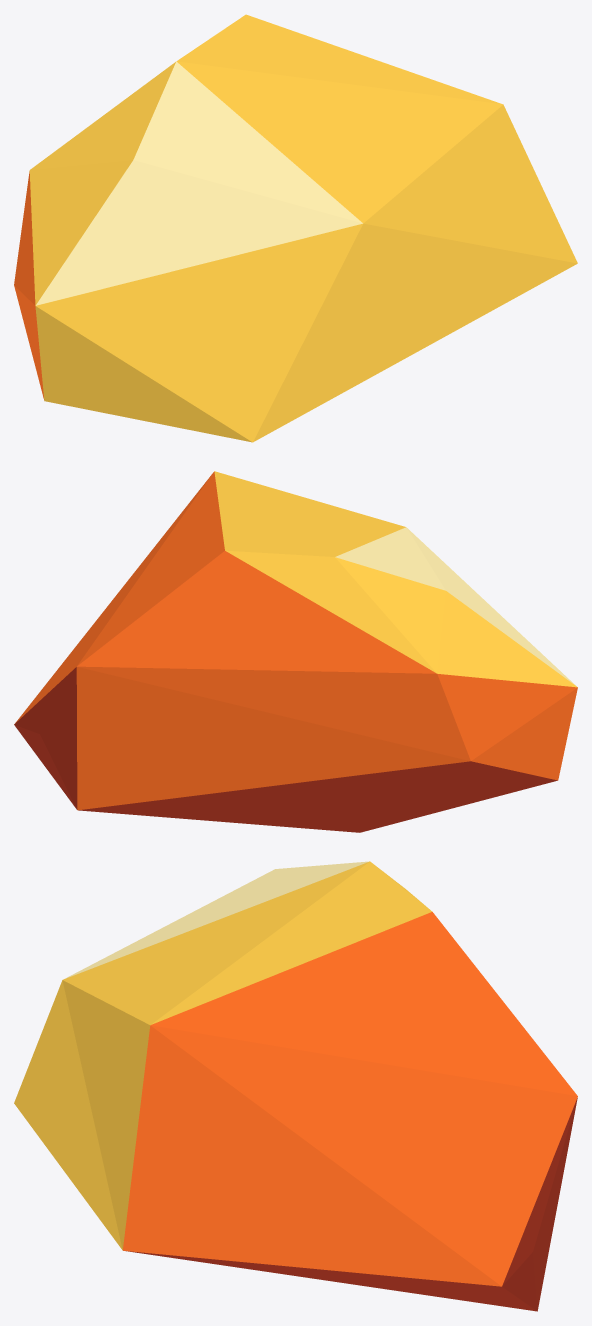
File: debris_rock_a.glb
3 renders of one model, top to bottom at view 1: azimuth 30°, elevation 25°; view 2: azimuth 150°, elevation 25°; view 3: azimuth 270°, elevation 25°, orthographic. The views are drawn at different scales.
Visible parts, largest first — view 1: debris_rock_a; view 2: debris_rock_a; view 3: debris_rock_a.
Boxes of the visible parts, bbox=[...] form: debris_rock_a: bbox=[14, 14, 577, 442]; debris_rock_a: bbox=[14, 471, 577, 832]; debris_rock_a: bbox=[14, 861, 577, 1311].
Bounding box in the file's own units: 1.61 × 1.04 × 1.33.
